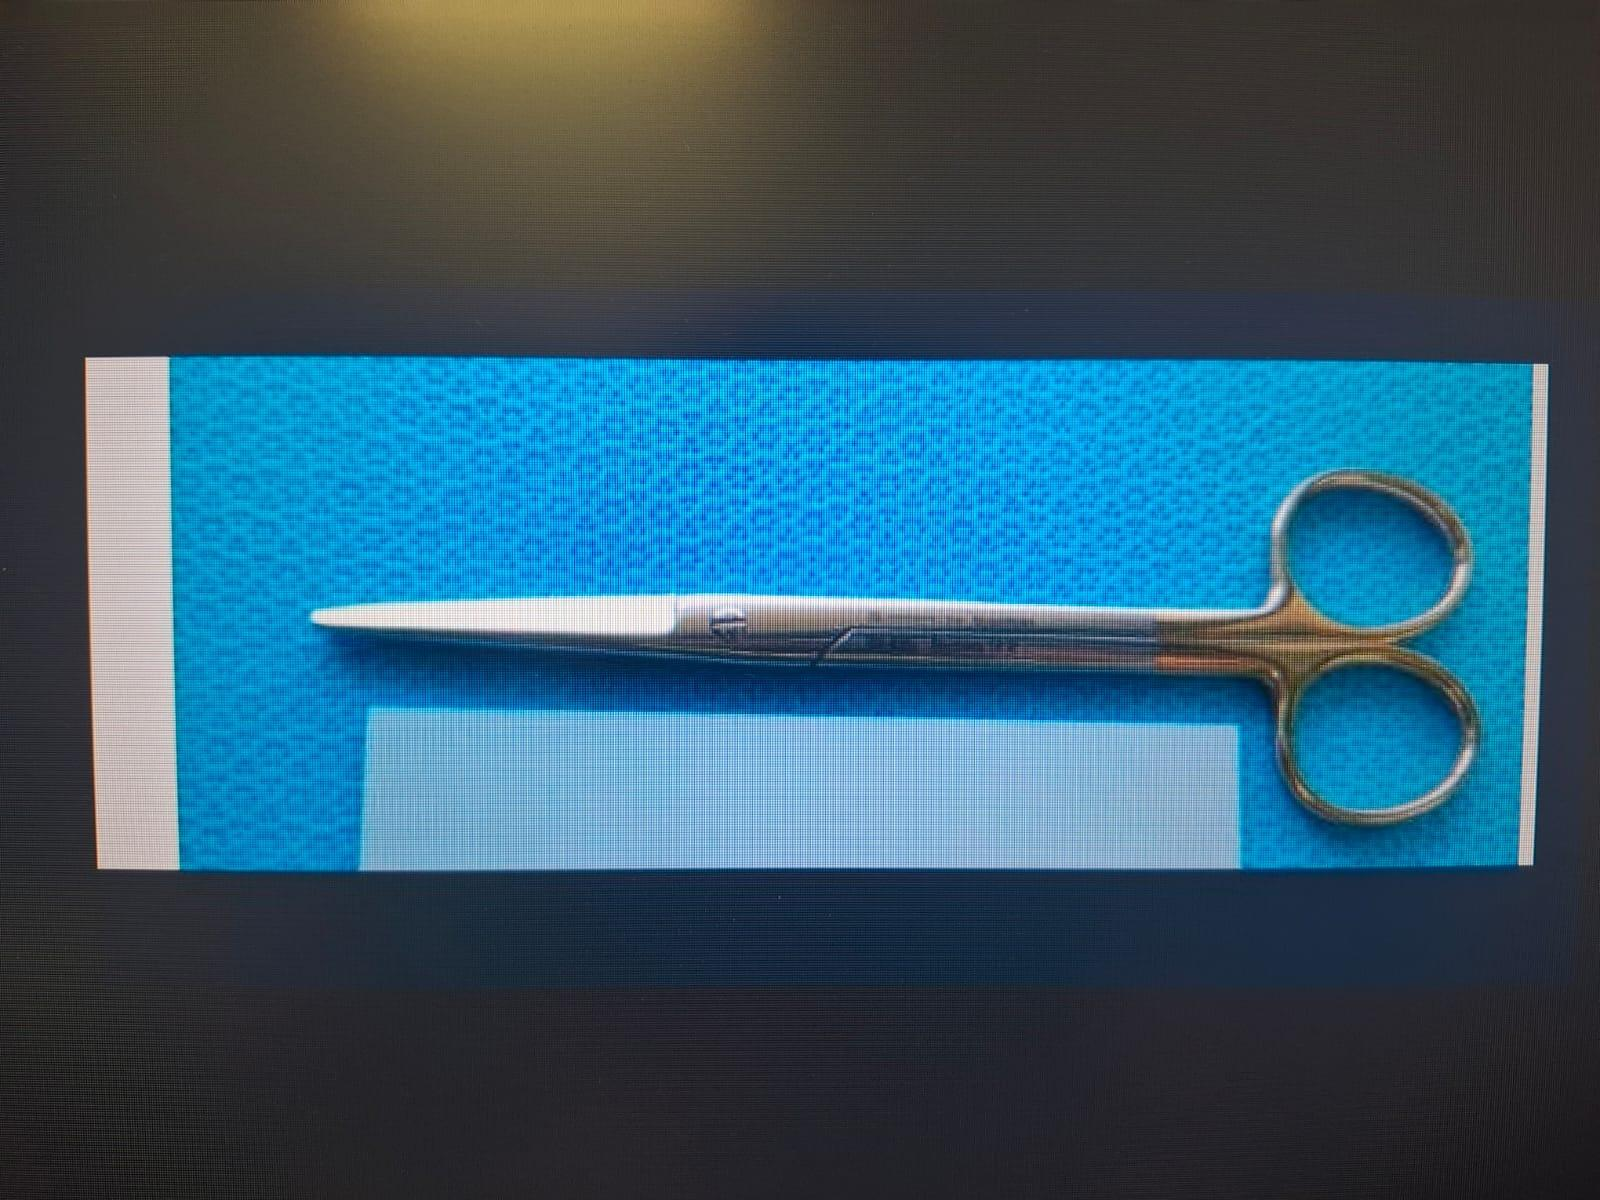Straight Mayo: (304, 458, 1484, 839)
